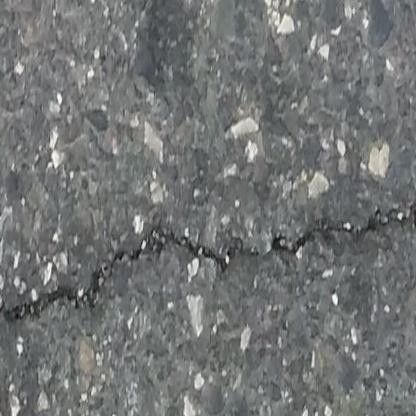Cracks: (0, 201, 416, 327)
